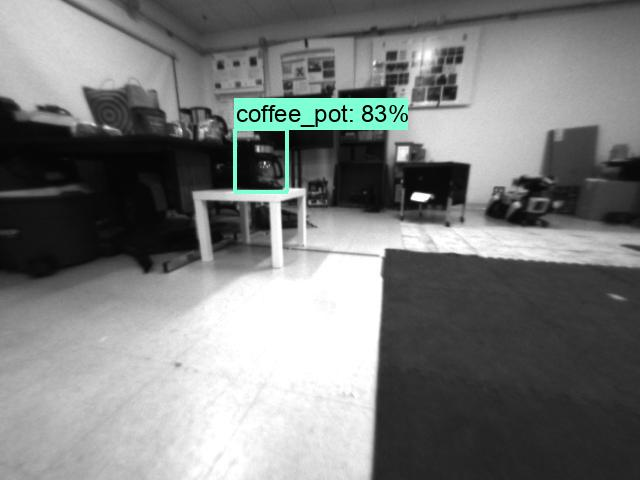coffee_pot: (236, 139, 288, 192)
